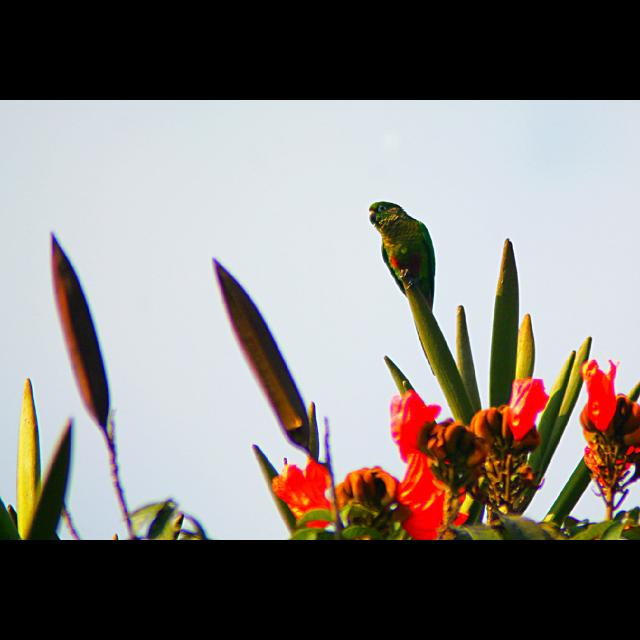Flower: (389, 390, 468, 540), (470, 380, 552, 522), (579, 358, 639, 487), (271, 467, 333, 523)
